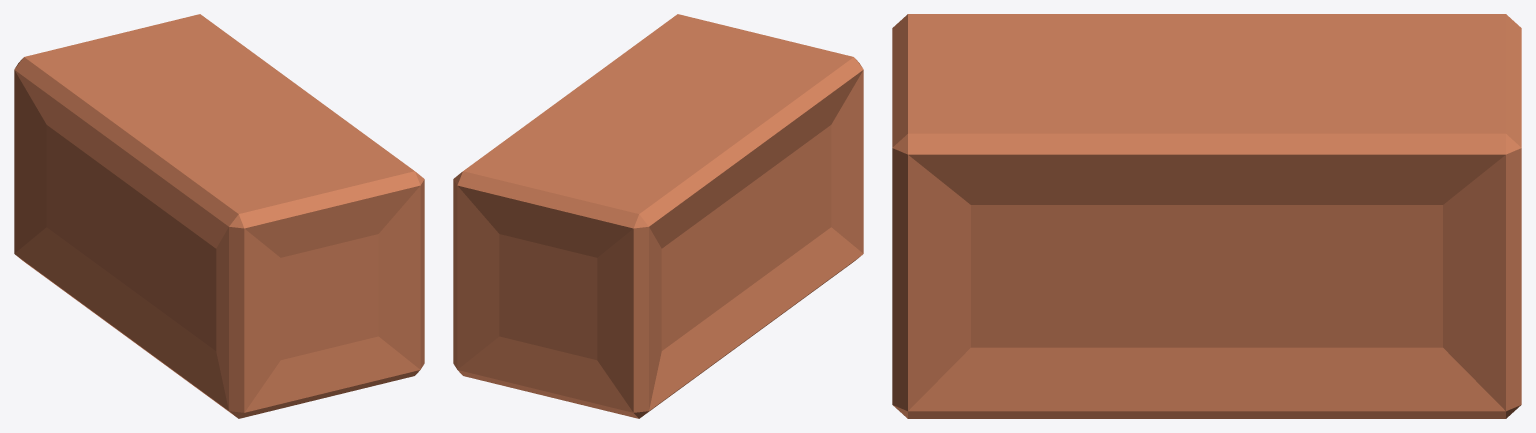
File: box-large.obj
3 renders of one model, left to right at view 1: azimuth 30°, elevation 25°; view 2: azimuth 150°, elevation 25°; view 3: azimuth 270°, elevation 25°, orthographic. The views are drawn at different scales.
Size of the model in its own units: 0.25 by 0.25 by 0.5.
